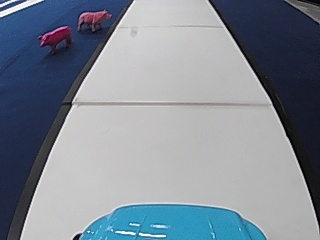pig: (36, 22, 73, 55), (75, 7, 111, 32)
